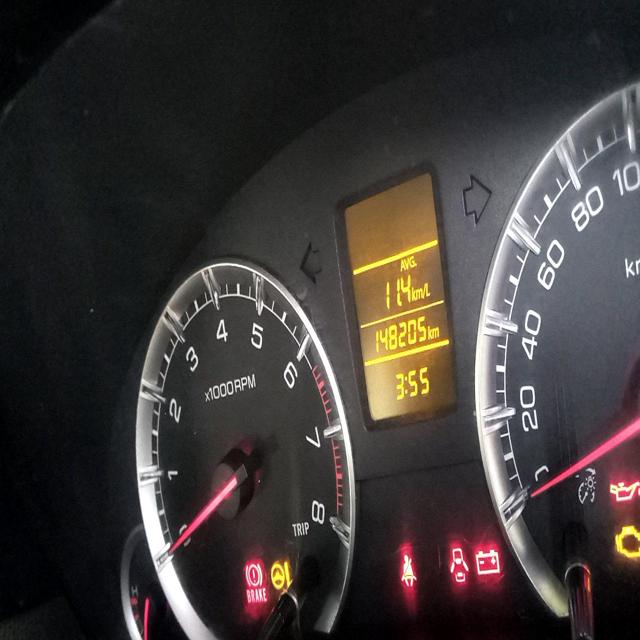odometer: (373, 314, 427, 357)
